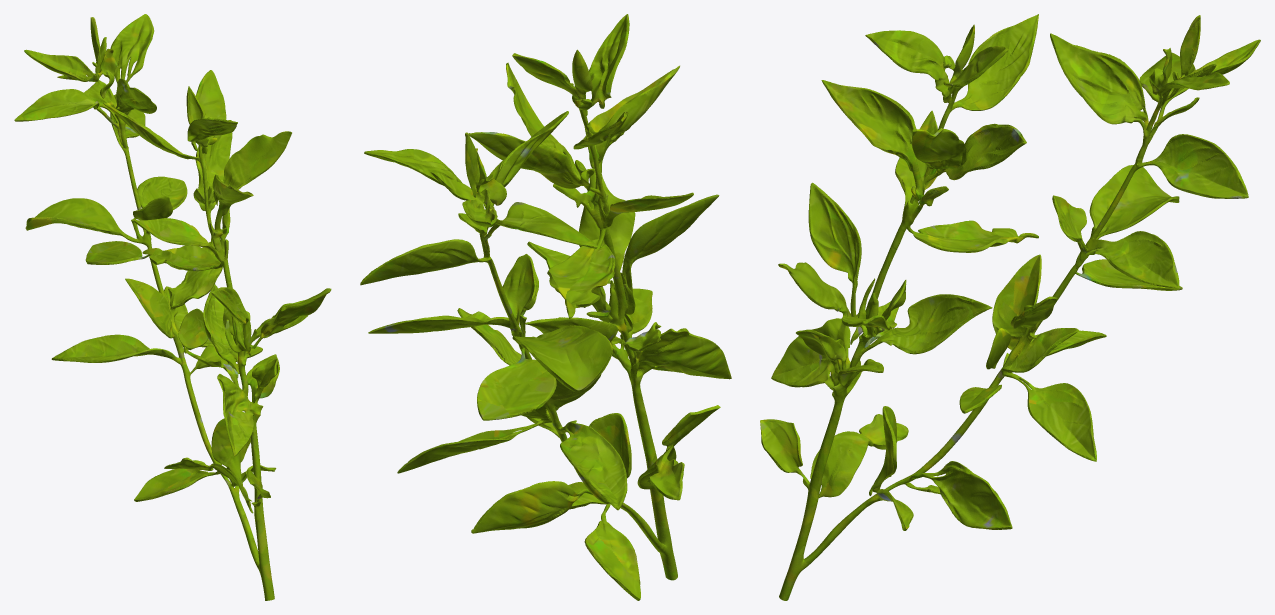
The model's file is jivanti.glb.
3 renders of one model, left to right at view 1: azimuth 30°, elevation 25°; view 2: azimuth 150°, elevation 25°; view 3: azimuth 270°, elevation 25°, orthographic. The views are drawn at different scales.
Parts seen in each view (by area): view 1: tripo_node_588bac4e-686b-4ae7-91bd-2d0597aa60c3; view 2: tripo_node_588bac4e-686b-4ae7-91bd-2d0597aa60c3; view 3: tripo_node_588bac4e-686b-4ae7-91bd-2d0597aa60c3.
Part boxes in pixels (bbox=[...]): tripo_node_588bac4e-686b-4ae7-91bd-2d0597aa60c3: bbox=[14, 14, 331, 600]; tripo_node_588bac4e-686b-4ae7-91bd-2d0597aa60c3: bbox=[360, 14, 731, 600]; tripo_node_588bac4e-686b-4ae7-91bd-2d0597aa60c3: bbox=[760, 14, 1260, 600].
Size of the model in its own units: 0.4129 by 1 by 0.7859.
1 material, 1 textured.
